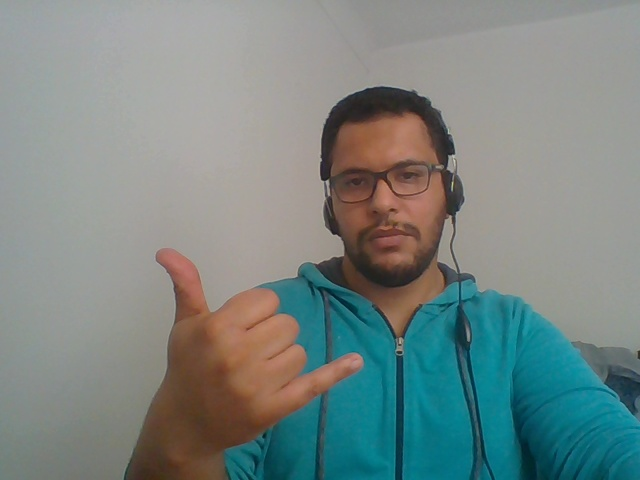callme: (140, 218, 368, 465)
